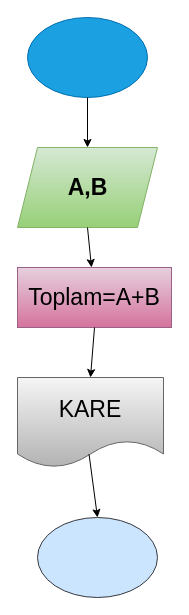
The diagram is 189 pixels wide and 615 high, and some of its shapes have lost their labels. Each missing label, with the box of its shape:
BAŞLA: (26, 16, 148, 98)
BİTİR: (36, 516, 158, 598)
